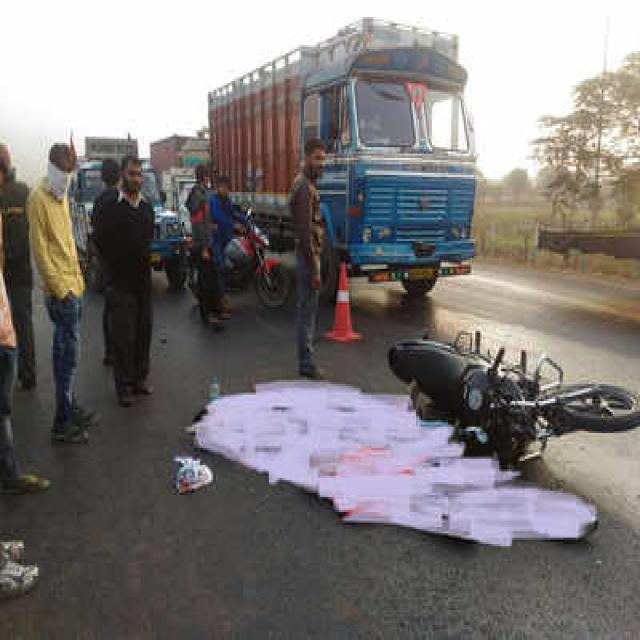accident: (389, 332, 640, 468)
truck: (209, 20, 474, 292)
